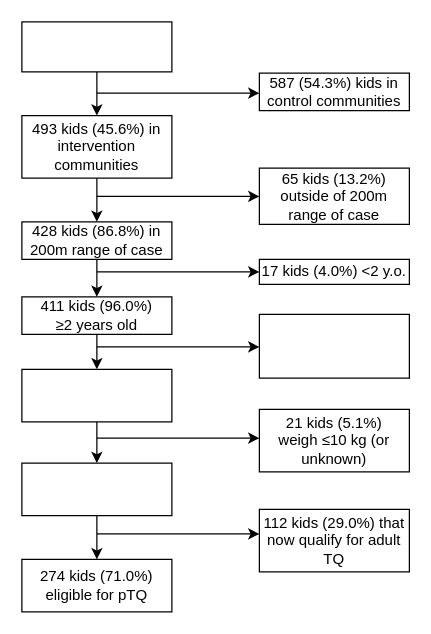
Some shapes in this 431 by 634 pixel diagram are drawn without their labels. Each missing label, with the centre of its shape:
1080 kids (23.2%) <16 y.o. enrolled: the point at 96,46
2 kids (0.49%) G6PD intermediate or deficient: the point at 333,345
386 kids (94.3%) that weigh >10 kg: the point at 96,489
409 kids (99.5%) G6PD normal: the point at 96,395
